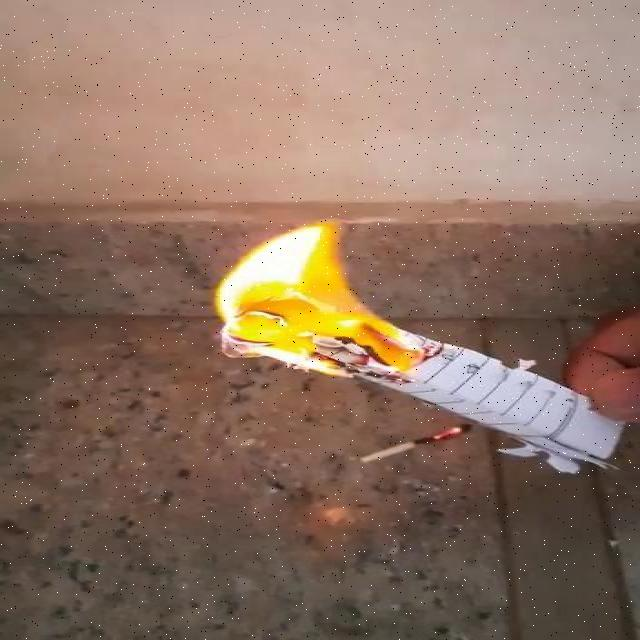fire: (209, 217, 431, 388)
